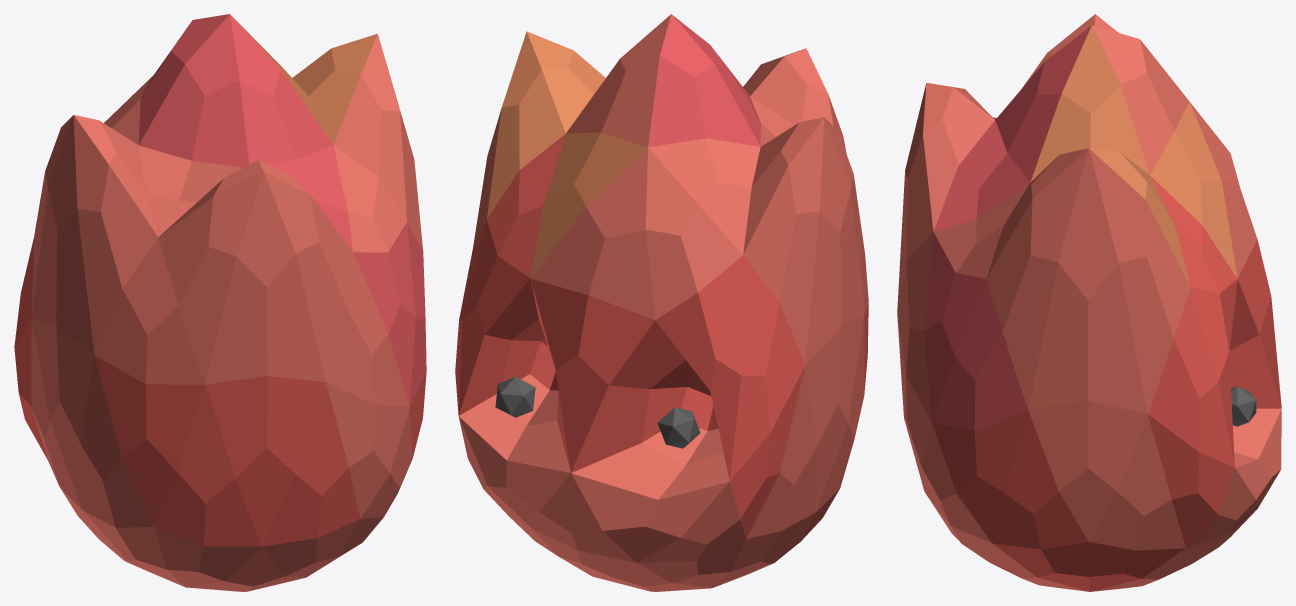
Rendered from FireSpirit.fbx.
3 views of the same model, side by side, from view 1: azimuth 30°, elevation 25°; view 2: azimuth 150°, elevation 25°; view 3: azimuth 270°, elevation 25° (orthographic).
Visible parts, largest first — view 1: Icosphere.005; view 2: Icosphere.005; view 3: Icosphere.005.
Boxes of the visible parts, x1=… form: Icosphere.005: x1=14, y1=14, x2=426, y2=591; Icosphere.005: x1=455, y1=14, x2=868, y2=591; Icosphere.005: x1=897, y1=14, x2=1281, y2=591.
Size of the model in its own units: 185 by 289 by 183.
